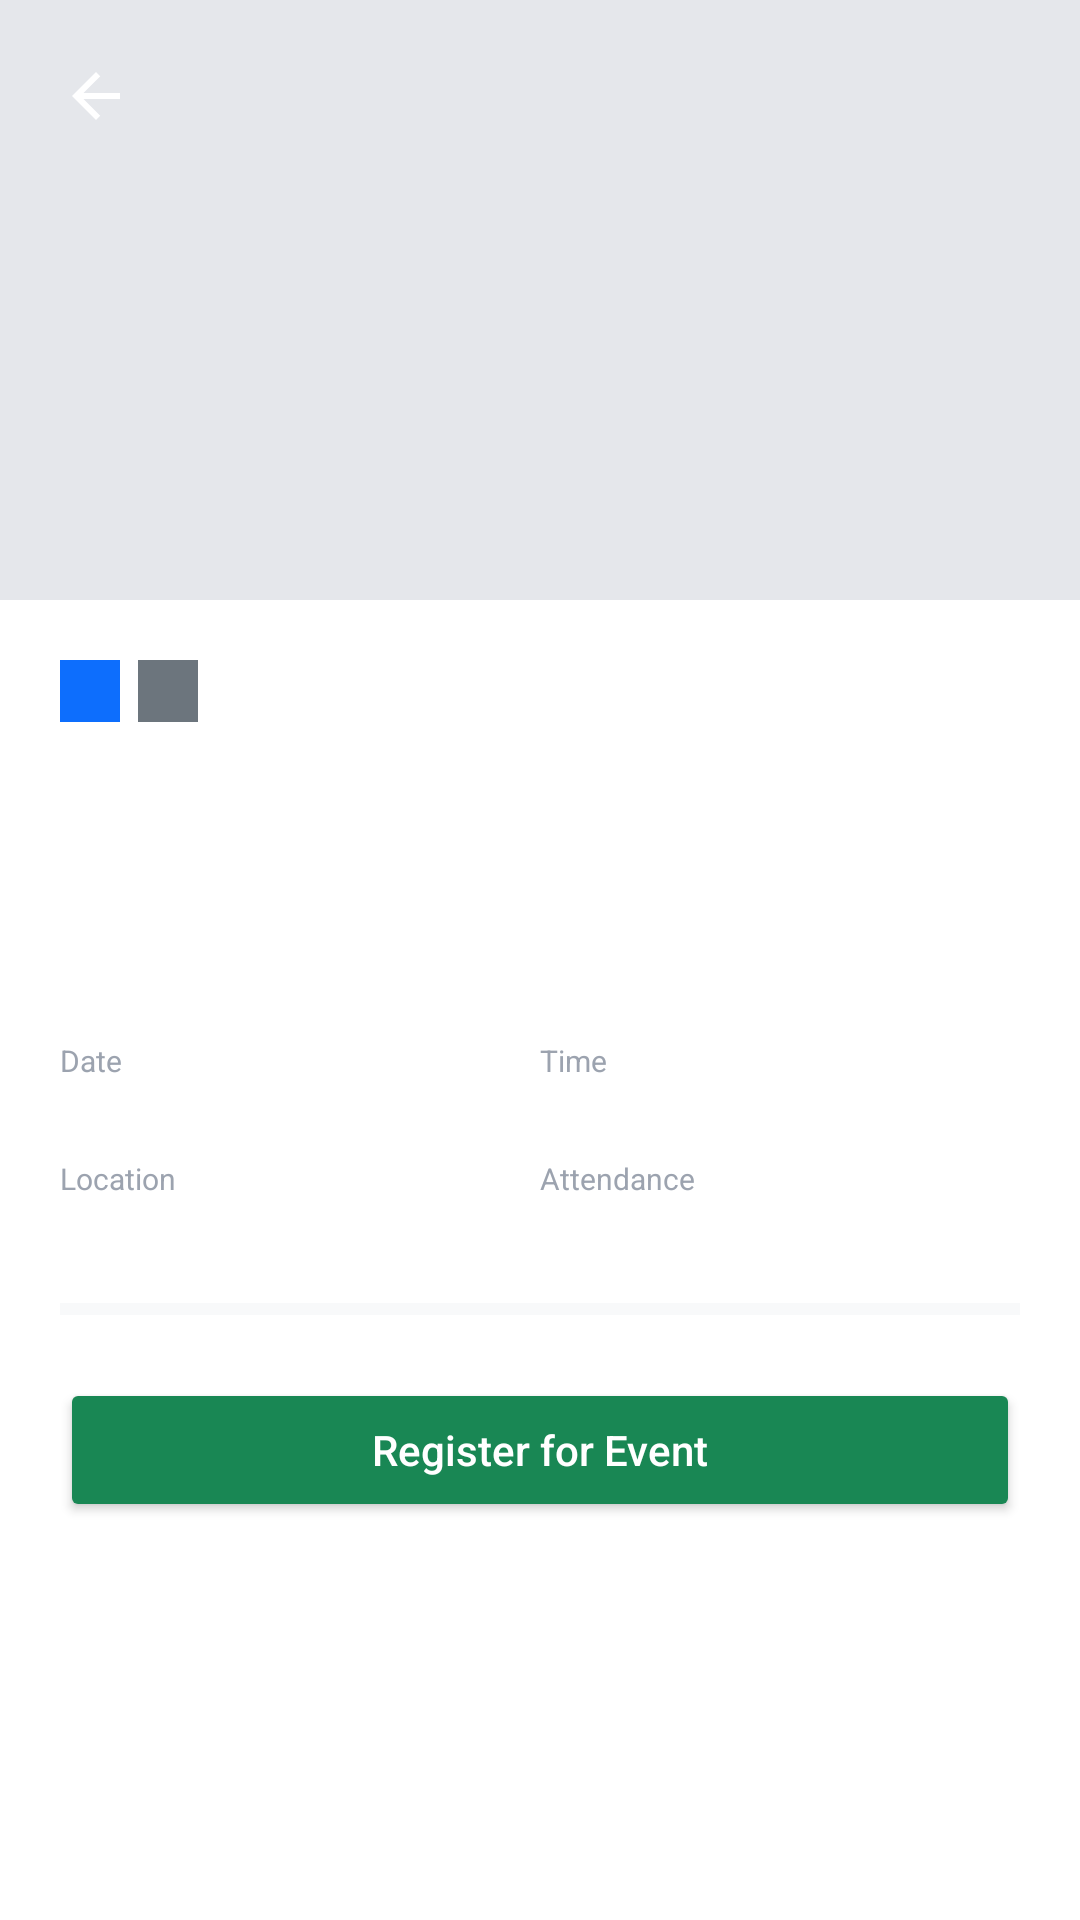

Icon bounding boxes for this 1080x1920 phone screenshot, format (x1, y1, x2, y2):
arrow back: (73, 73, 120, 119)
